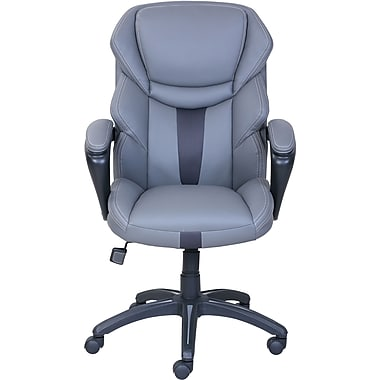chairs: (79, 2, 299, 379)
